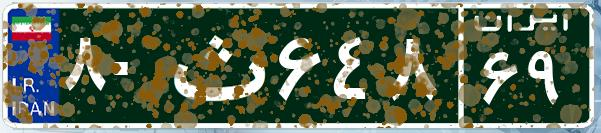0: (110, 28, 158, 105)
4: (330, 28, 385, 110)
6: (273, 28, 330, 110), (475, 38, 525, 113)
8: (385, 28, 445, 110), (57, 26, 110, 107)
9: (525, 38, 570, 115)
ث: (158, 15, 273, 115)
